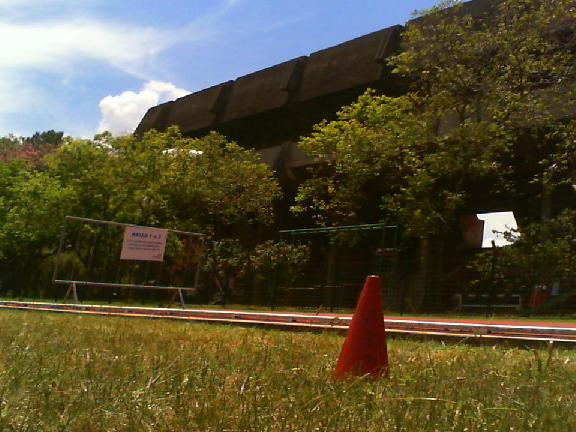0 cone: (329, 275, 389, 383)
